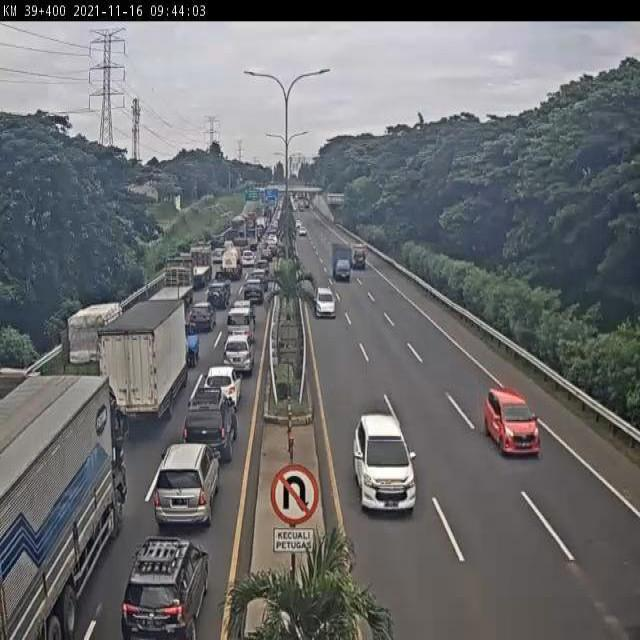car: (124, 534, 210, 640), (469, 367, 555, 469), (355, 416, 419, 523), (162, 435, 222, 533), (189, 383, 238, 468), (205, 360, 245, 413), (224, 328, 256, 377), (313, 282, 338, 322), (233, 297, 258, 336), (229, 307, 255, 344), (194, 298, 217, 338), (208, 274, 229, 314), (243, 275, 265, 312)
small truck: (352, 243, 369, 273)
truck-l-: (0, 373, 129, 640), (150, 256, 194, 324), (182, 246, 212, 290)
truck-m-: (98, 299, 191, 424), (62, 300, 129, 409), (333, 241, 354, 283)
